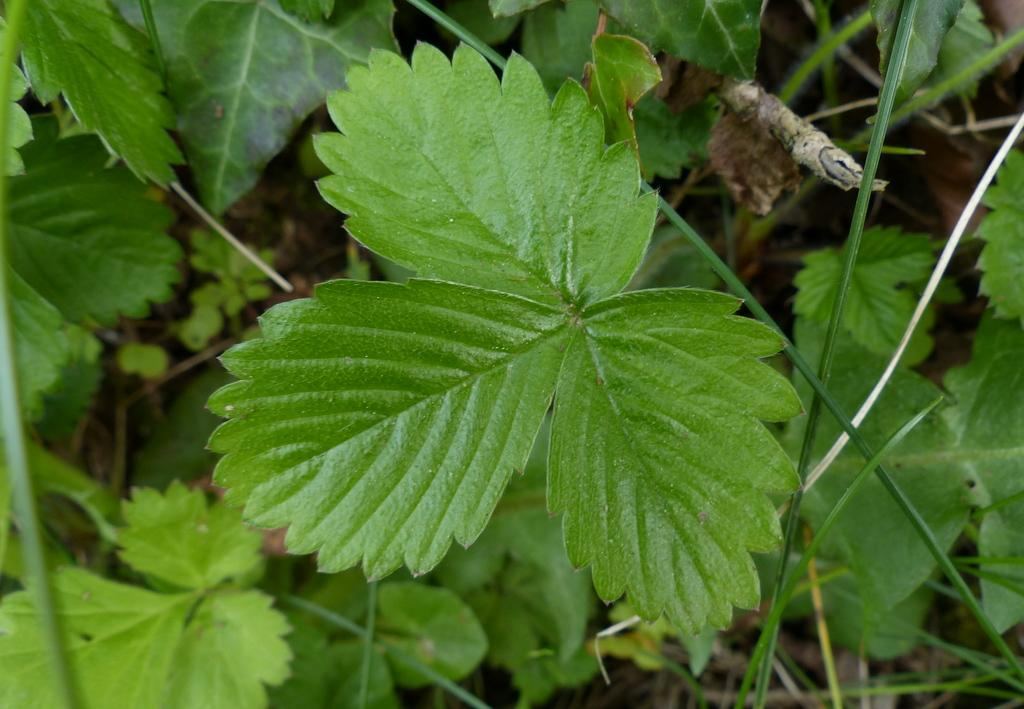Strawberry leaf: (191, 271, 582, 586), (298, 34, 667, 345), (553, 287, 797, 656)
